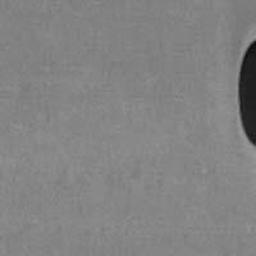Punching: (239, 41, 256, 145)
